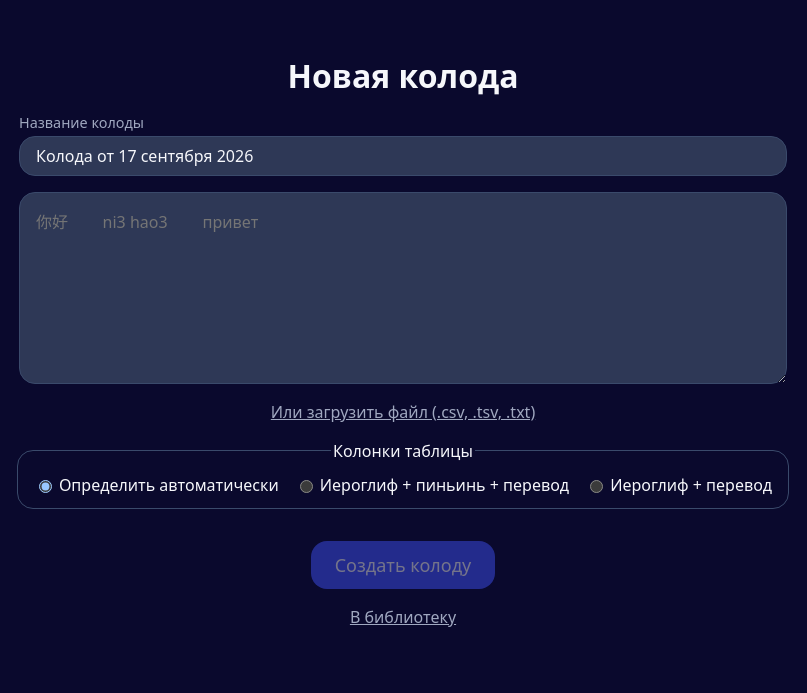
Test: ImportScreen › переключатель колонок меняет разбор
The width and height of the screenshot is (807, 693).
Click the text box named "Таблица со словами".
click(403, 288)  # box [19,192,787,384]
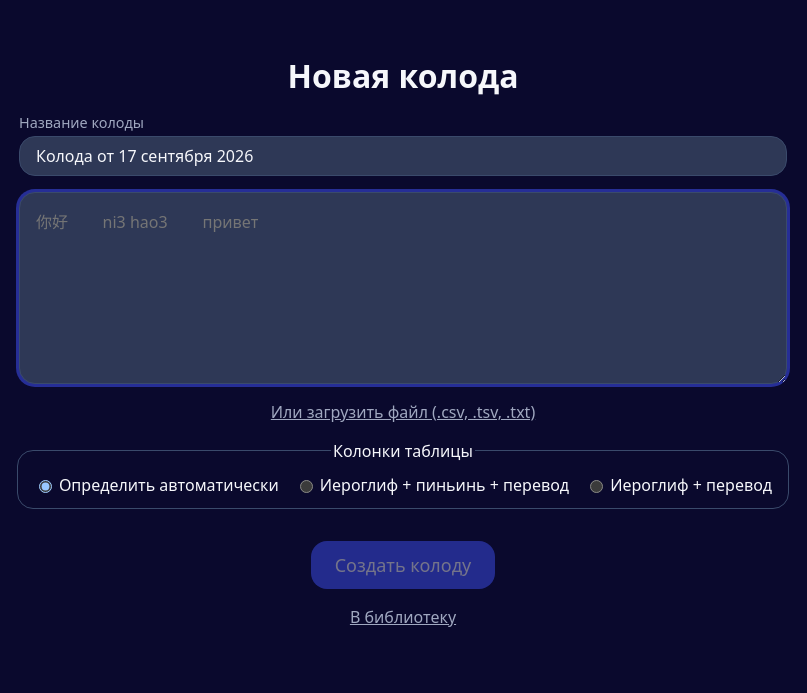
Type keys "你好,hello,greeting"
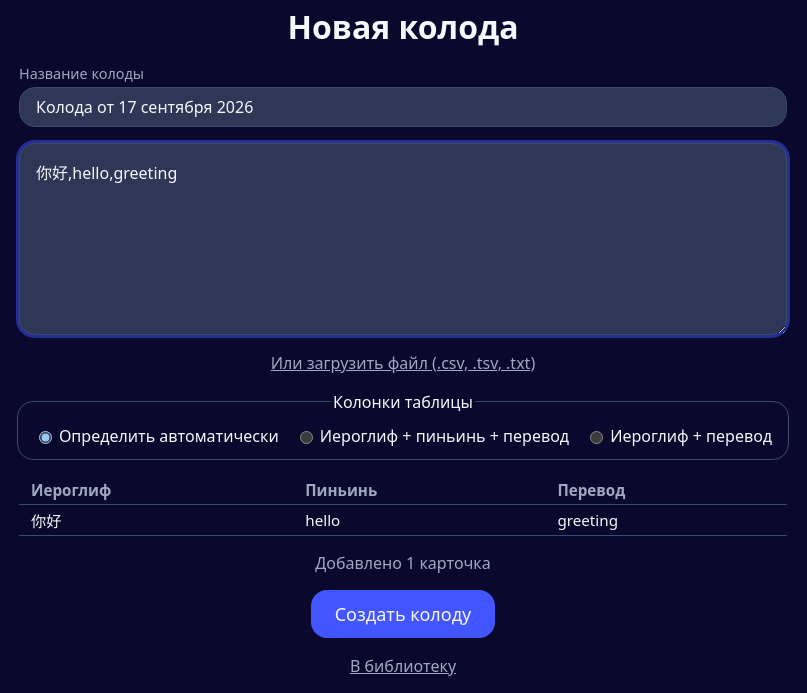
Check: the text "hello" is shown, box [293,504,545,535]
Click the radio button labelled "Иероглиф + перевод".
click(597, 437)  # box [590,430,603,444]
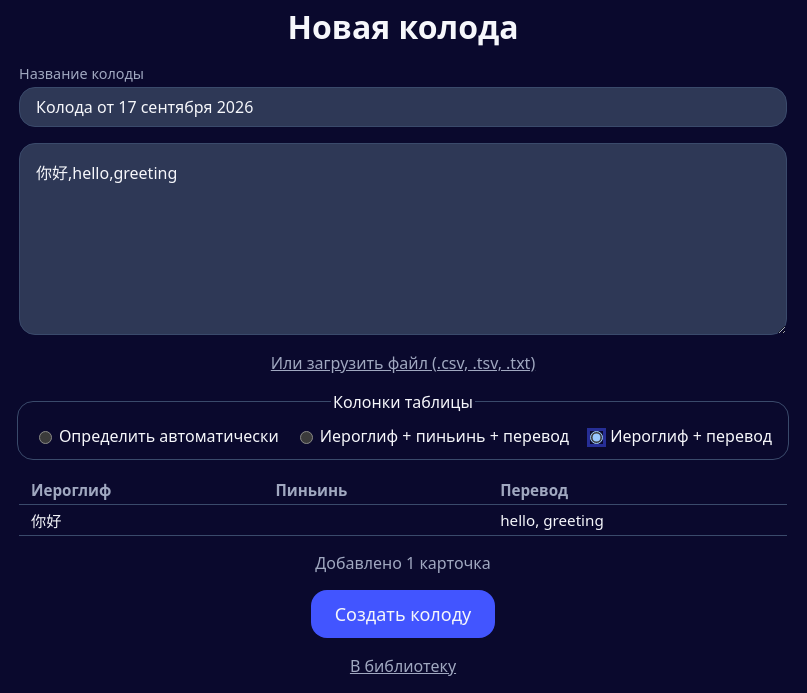
Check: the text "hello, greeting" is shown, box [488,504,787,535]
